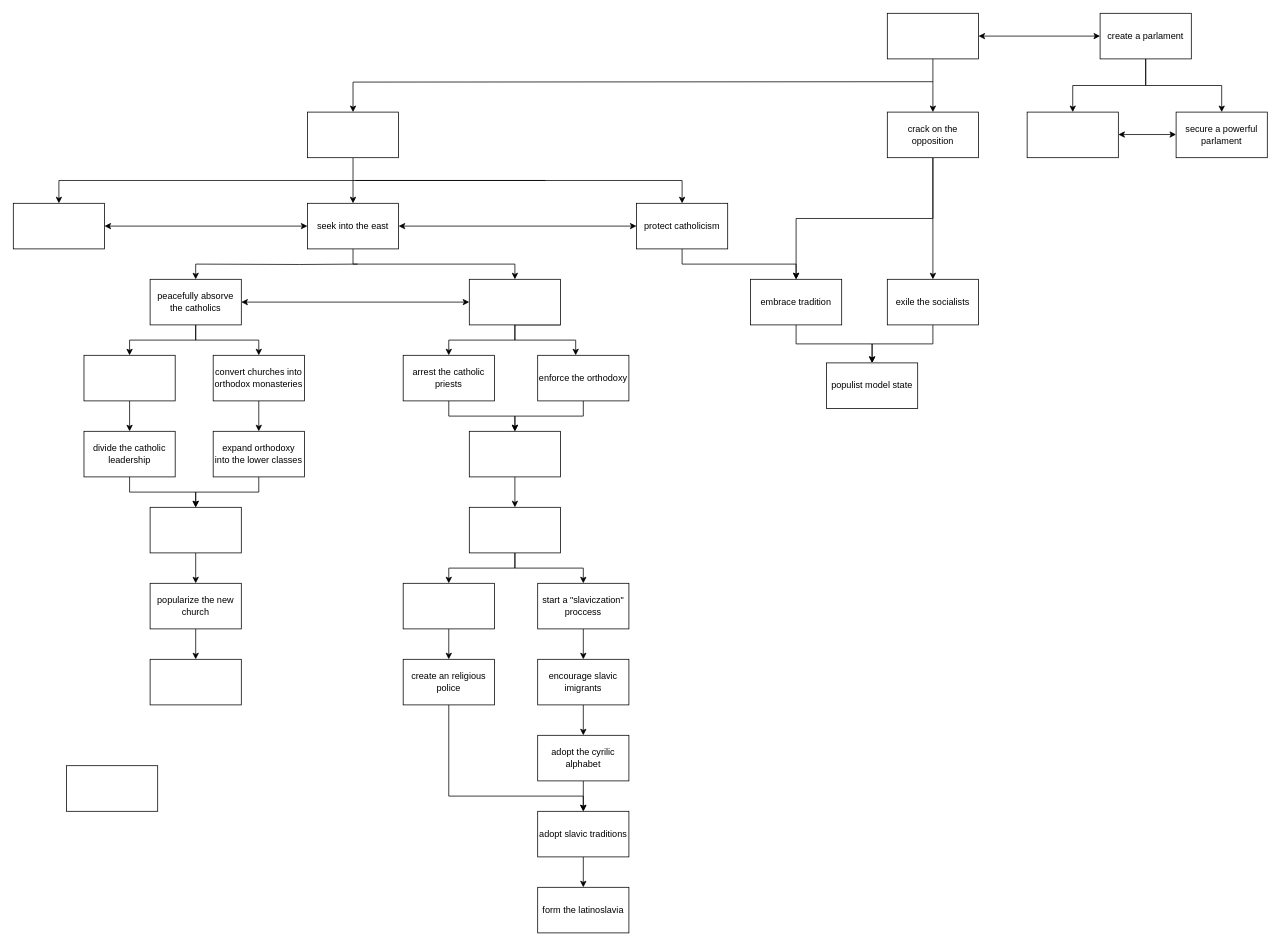
Some shapes in this 1281 by 946 pixel diagram are drawn without their labels. Here are the shapes that lost their labels. From the top down, the box of each, then its label:
(887, 13, 978, 59): 1 crown 1 power
(307, 111, 399, 158): religious question
(1026, 111, 1118, 158): secure a loyal parlament
(13, 203, 104, 249): keep a secular state
(469, 279, 560, 325): radicalize the brazilian orthodox church
(83, 355, 175, 401): weaken the catholic influence
(469, 431, 560, 477): intensify the purges
(149, 507, 241, 553): merge the two churches
(469, 507, 560, 553): ban catholicism
(402, 583, 494, 629): mass-censorship
